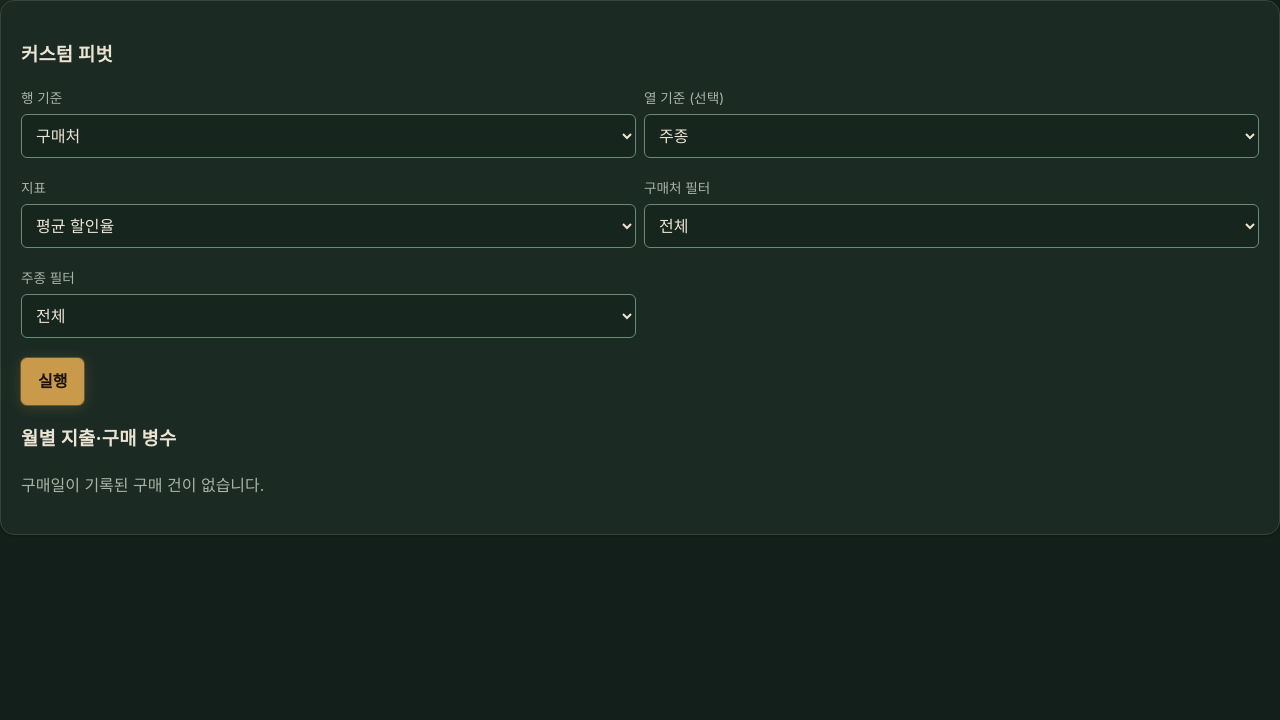
PivotExplorer › 열 축이 없으면 1차원 표를 보여준다
Select "없음" in the dropdown labelled "열 기준 (선택)": x=952, y=136 [644, 114, 1259, 158]
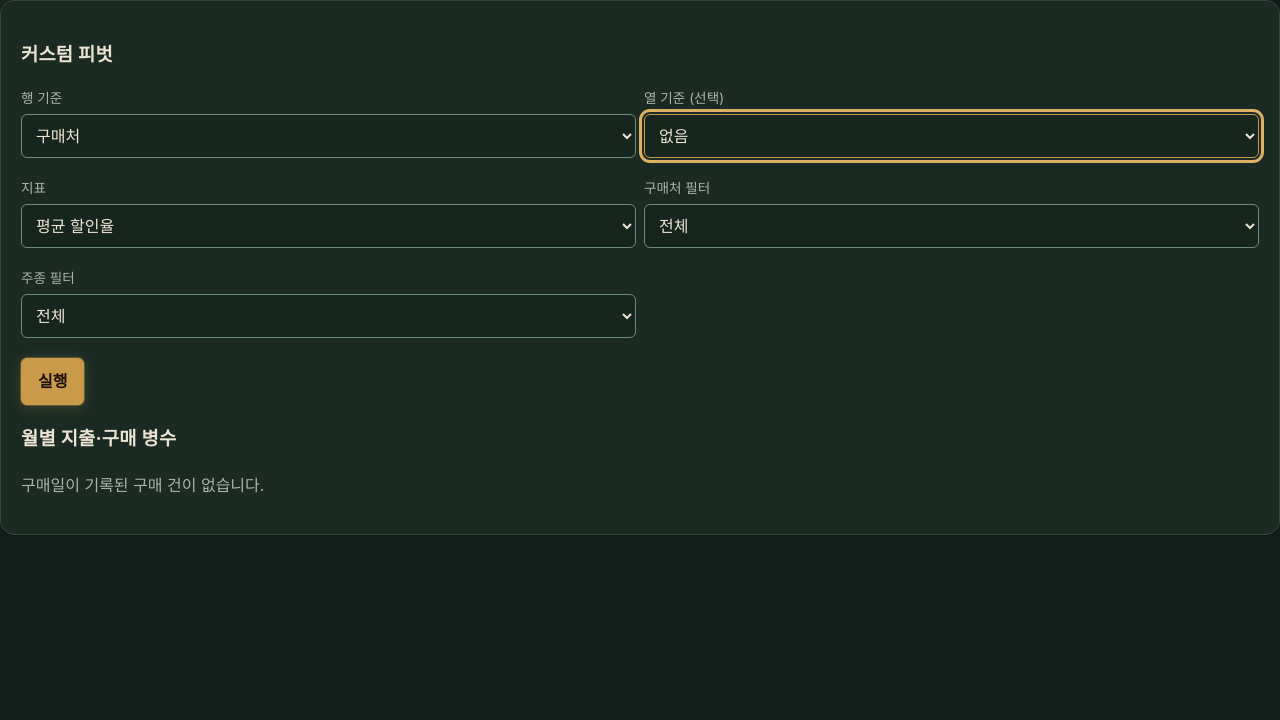
Select "병수" in the dropdown labelled "지표": x=328, y=226 [21, 204, 636, 248]
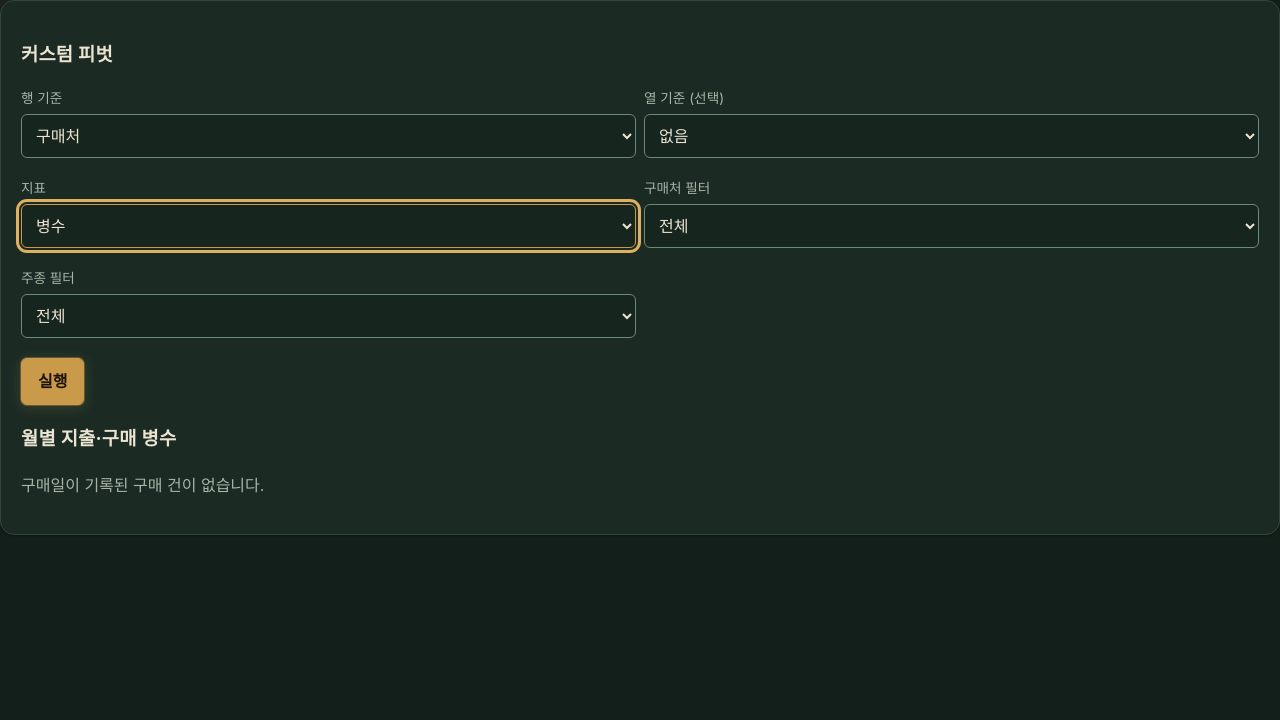
Click the button "실행": x=53, y=381 [21, 358, 84, 405]
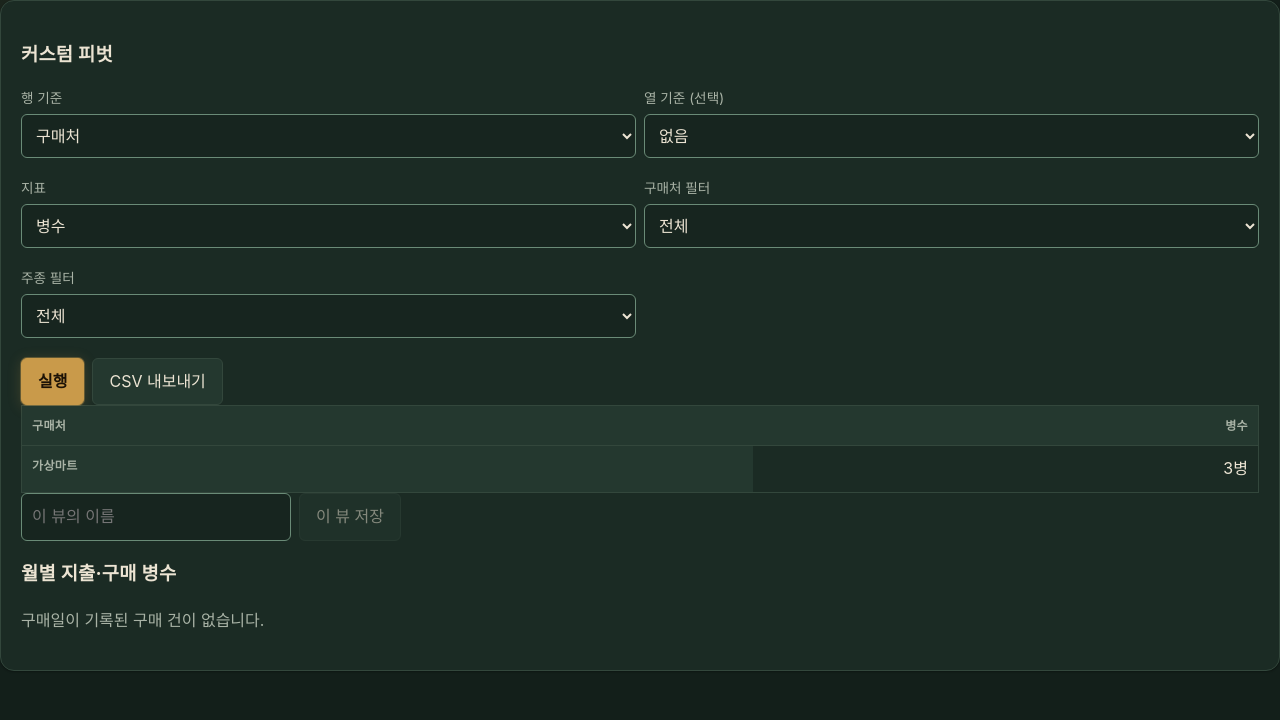
Result: the column heading "가상마트" is shown at [22, 446, 754, 492]
Result: the text "3병" is shown at [754, 446, 1258, 492]
